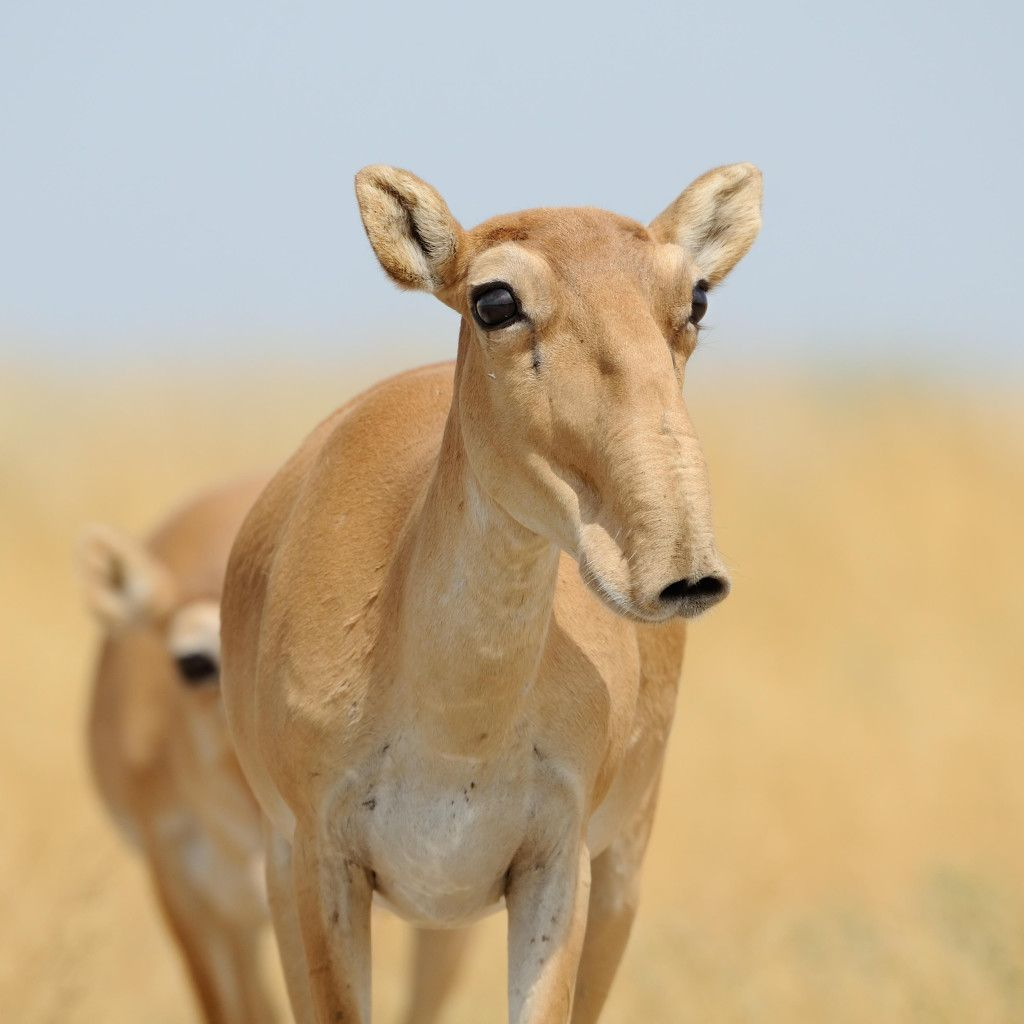saiga: (215, 157, 762, 1024)
